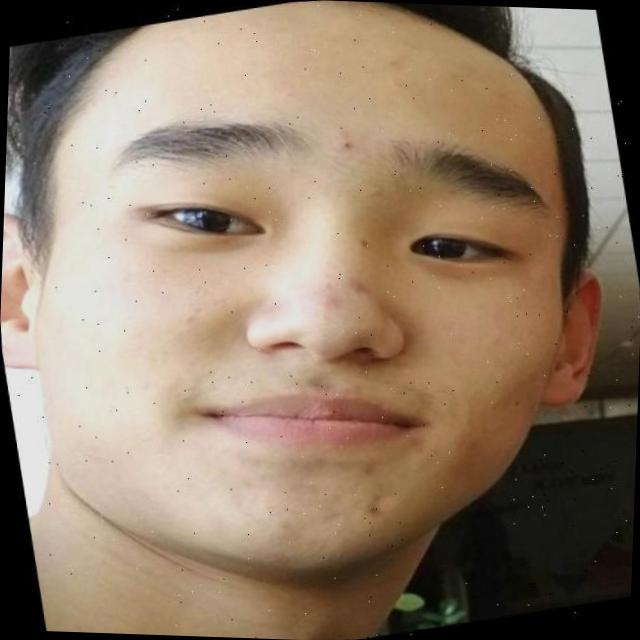acne: (178, 307, 200, 328)
blackhead: (360, 498, 385, 520), (334, 136, 354, 153)
nodules: (344, 279, 372, 301), (315, 290, 341, 313), (354, 459, 376, 478)
